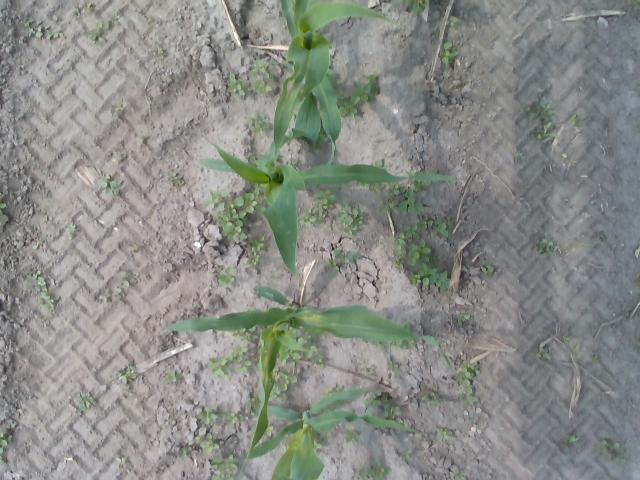Maize: (158, 284, 453, 480), (196, 136, 454, 278), (272, 0, 400, 165), (232, 385, 422, 480)
Weeds: (211, 190, 247, 246), (381, 186, 422, 216), (398, 236, 432, 269), (419, 213, 451, 239), (415, 263, 447, 287), (356, 72, 381, 102), (340, 203, 364, 232), (232, 192, 256, 220), (244, 236, 266, 266), (357, 462, 389, 480), (212, 454, 235, 477), (234, 396, 256, 420), (246, 113, 272, 133), (313, 188, 335, 211), (526, 103, 552, 122), (29, 25, 64, 39), (88, 19, 109, 42), (439, 42, 458, 66), (229, 75, 249, 97), (340, 96, 360, 116), (298, 206, 318, 226), (600, 440, 620, 460), (198, 433, 220, 451), (254, 78, 277, 94), (402, 0, 428, 14), (252, 58, 272, 76), (197, 408, 218, 425), (207, 358, 229, 374), (333, 249, 358, 263), (536, 236, 554, 255), (535, 123, 555, 140), (230, 344, 250, 361), (280, 373, 298, 391), (383, 402, 402, 418), (42, 294, 62, 309), (236, 356, 252, 374), (120, 368, 138, 384), (122, 270, 138, 288), (368, 391, 387, 406), (101, 175, 118, 190), (403, 224, 419, 239), (562, 435, 577, 451), (216, 274, 236, 285), (80, 392, 94, 407), (466, 385, 476, 405), (438, 427, 453, 439), (422, 391, 438, 402), (536, 347, 550, 359), (324, 262, 340, 272), (0, 434, 8, 454), (462, 365, 474, 378), (37, 278, 48, 292), (168, 370, 182, 380), (348, 431, 360, 442), (288, 354, 302, 363), (317, 210, 328, 221), (170, 172, 182, 182), (446, 16, 458, 26), (481, 263, 493, 273), (100, 290, 110, 301), (306, 347, 316, 358), (32, 241, 44, 250), (461, 314, 471, 324), (114, 105, 125, 114), (573, 344, 582, 354), (515, 152, 526, 160), (571, 114, 578, 126), (68, 224, 78, 231), (562, 334, 570, 342), (184, 446, 192, 454), (0, 202, 7, 211), (115, 288, 122, 295), (593, 352, 599, 360), (158, 46, 164, 54)
